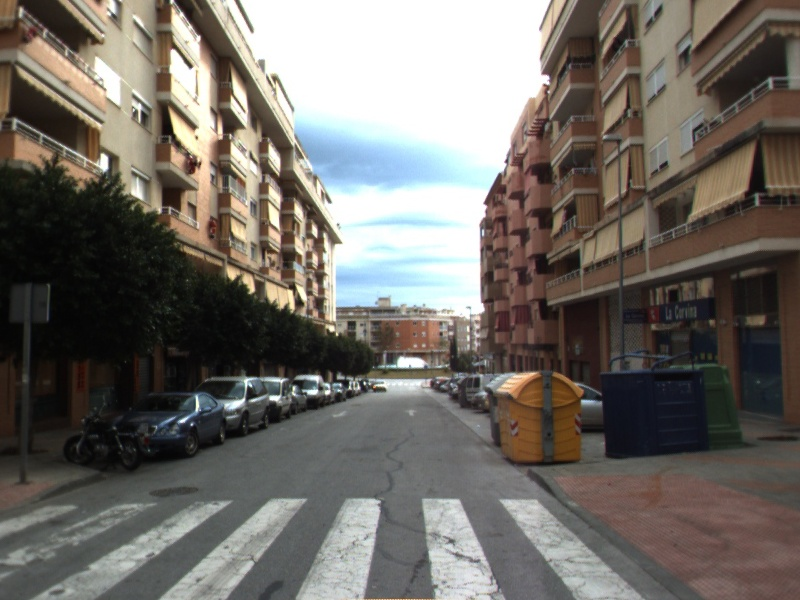STRAIGHT: (402, 406, 420, 418)
